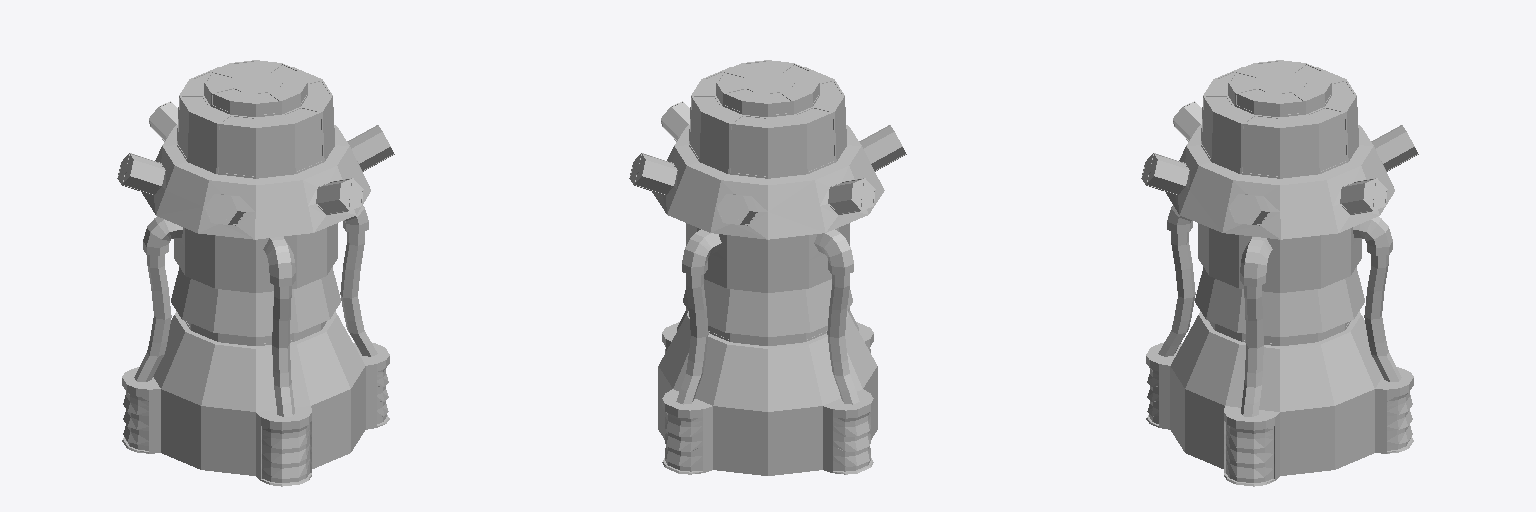
File: Plasma.obj
The picture shows the model from 3 angles: view 1: azimuth 30°, elevation 25°; view 2: azimuth 150°, elevation 25°; view 3: azimuth 270°, elevation 25°; orthographic projection.
Visible parts, largest first — view 1: Cylinder04; view 2: Cylinder04; view 3: Cylinder04.
Boxes of the visible parts, box(x1,y1,x2,y2) form: Cylinder04: box(117, 60, 394, 486); Cylinder04: box(629, 60, 906, 475); Cylinder04: box(1141, 60, 1418, 486).
Size of the model in its own units: 136 by 188 by 136.